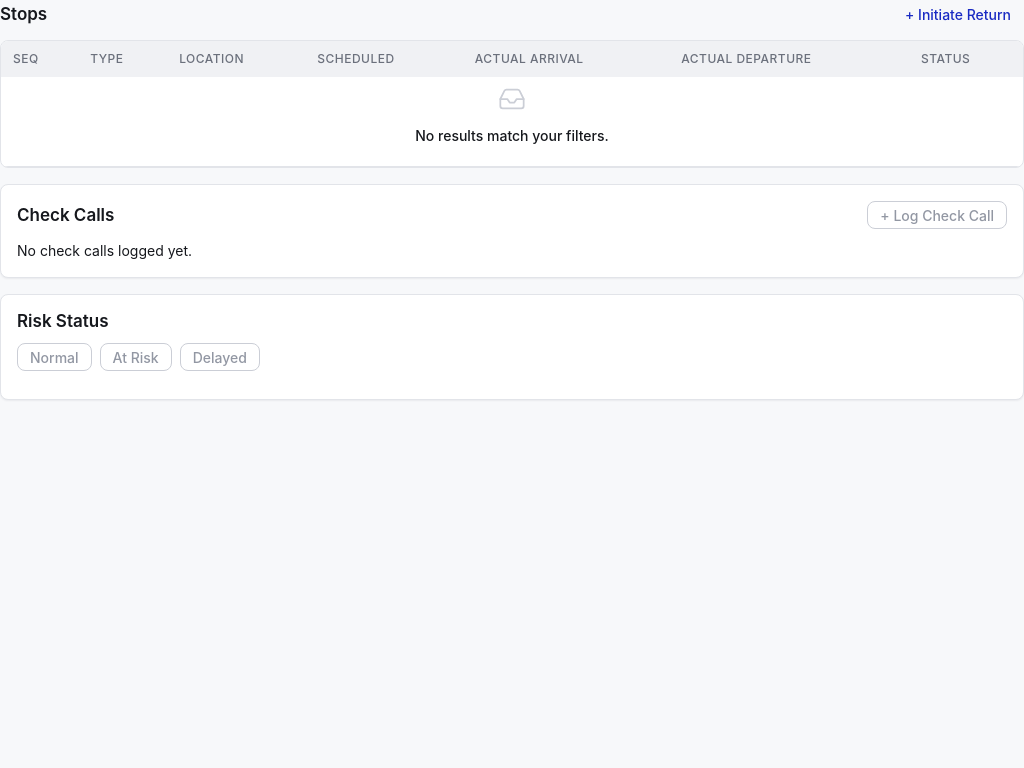
Test case: StopsTrackingTab — Return Product feature › enables "+ Initiate Return" on a DELIVERED Load and opens the modal on click
What coordinates should you click on to do the following:
click the button "+ Initiate Return"
I would click on:
 (958, 14)
Its box is [892,0,1023,28].
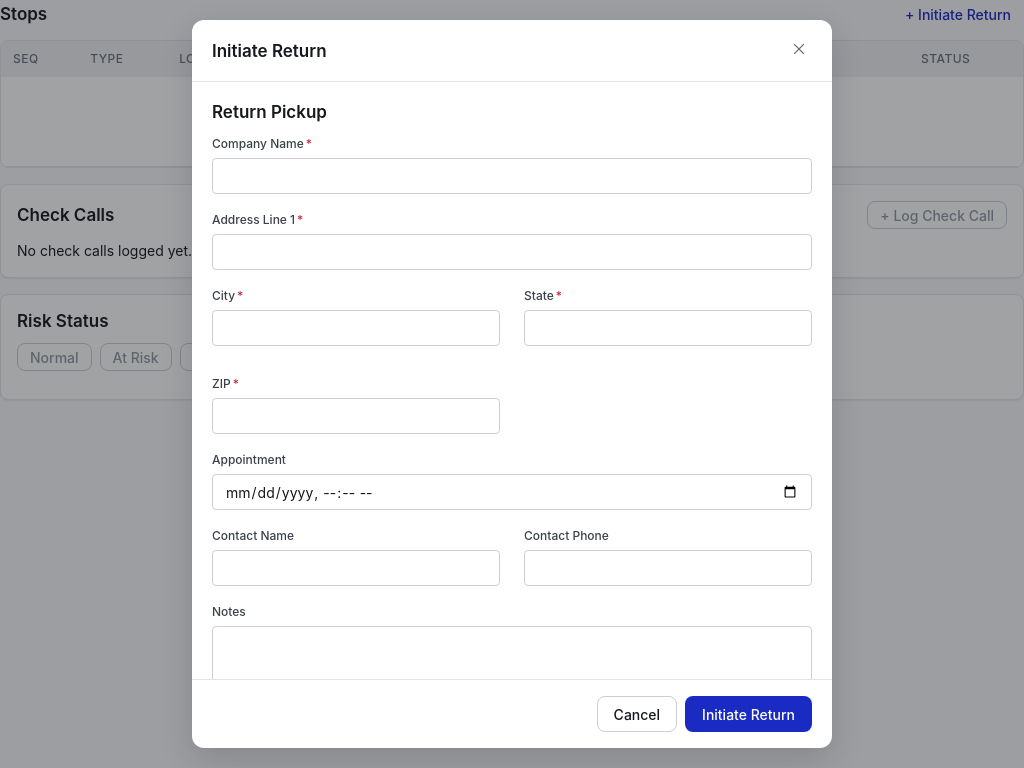
Expected: the heading "Return Pickup" is shown, [212,102,327,122]
